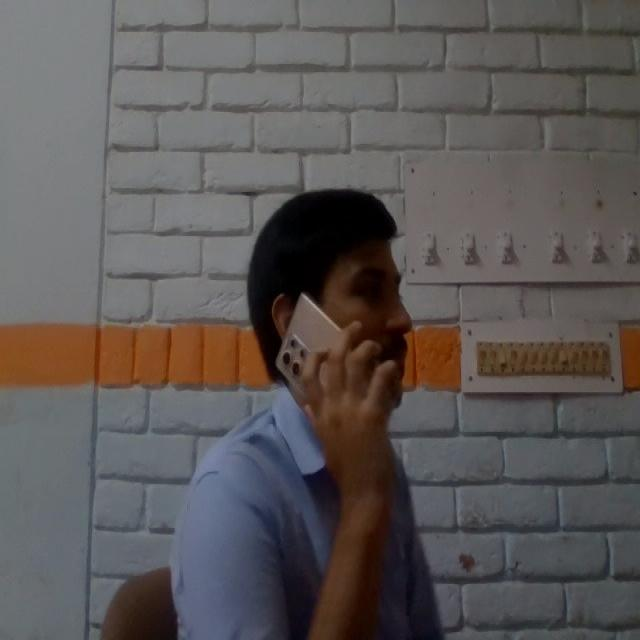oncall: (168, 186, 448, 639)
phone: (270, 294, 380, 432)
